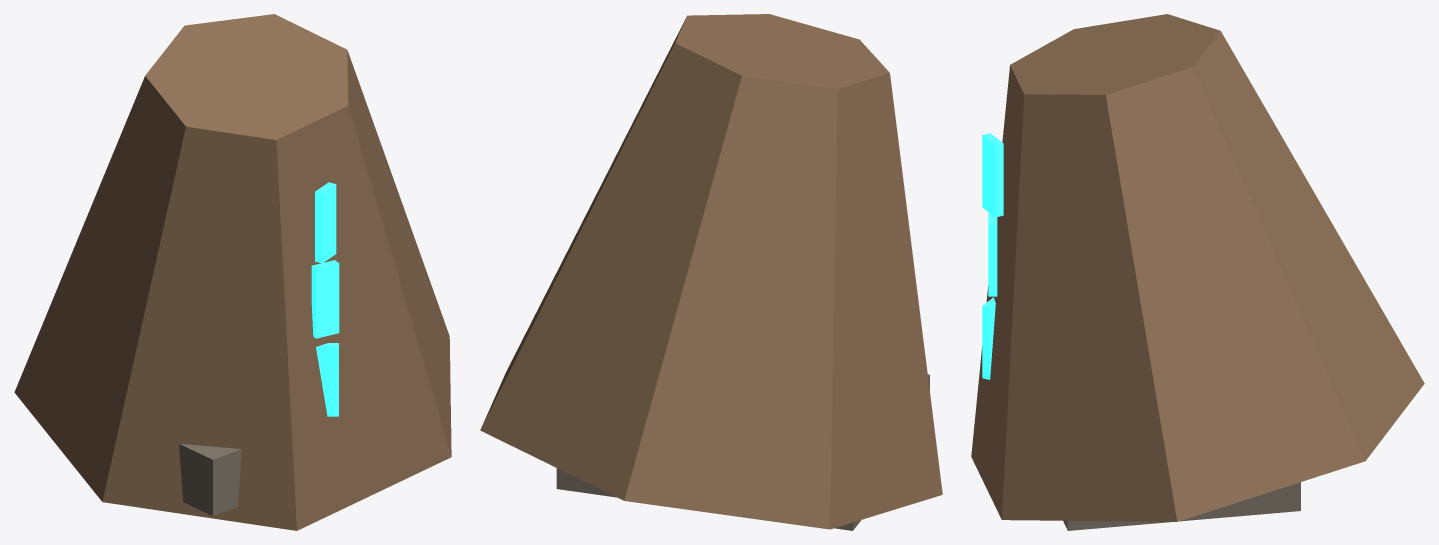
Rendered from artifact_fragment.glb.
3 views of the same model, side by side, from view 1: azimuth 30°, elevation 25°; view 2: azimuth 150°, elevation 25°; view 3: azimuth 270°, elevation 25° (orthographic). The views are drawn at different scales.
Visible parts, largest first — view 1: BrokenFragment, BrokenBase, Rune1, Rune2, Rune0; view 2: BrokenFragment, BrokenBase; view 3: BrokenFragment, BrokenBase, Rune2, Rune0, Rune1.
Boxes of the visible parts, left/top/right/bottom form: BrokenFragment: left=14, top=14, right=451, bottom=530; BrokenBase: left=179, top=443, right=241, bottom=515; Rune1: left=311, top=260, right=339, bottom=338; Rune2: left=315, top=182, right=336, bottom=263; Rune0: left=316, top=343, right=338, bottom=416; BrokenFragment: left=480, top=14, right=942, bottom=529; BrokenBase: left=556, top=374, right=929, bottom=530; BrokenFragment: left=971, top=14, right=1424, bottom=521; BrokenBase: left=1063, top=482, right=1300, bottom=530; Rune2: left=982, top=133, right=1003, bottom=217; Rune0: left=982, top=297, right=995, bottom=379; Rune1: left=988, top=212, right=997, bottom=296.
Bounding box in the file's own units: 2.97 × 3.11 × 2.96.
